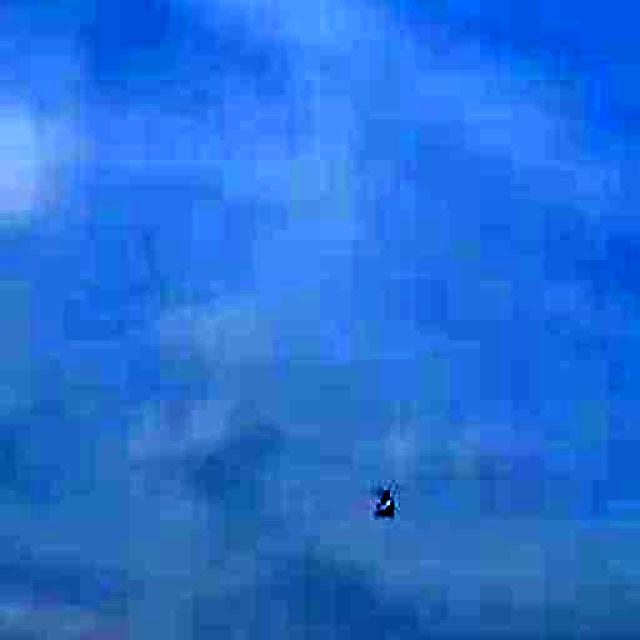drone: (366, 474, 406, 530)
